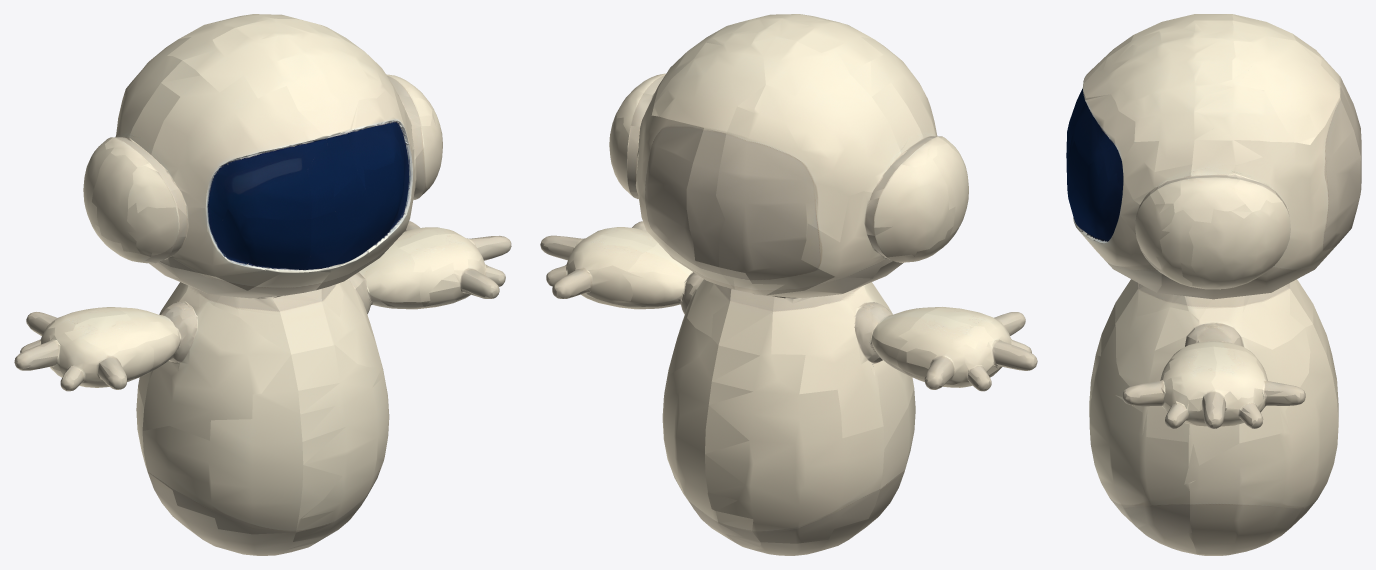
The model's file is robo.glb.
3 renders of one model, left to right at view 1: azimuth 30°, elevation 25°; view 2: azimuth 150°, elevation 25°; view 3: azimuth 270°, elevation 25°, orthographic.
Bounding box in the file's own units: 1.9 × 1.89 × 0.9799.
Materials: 1 (1 with a texture image).
